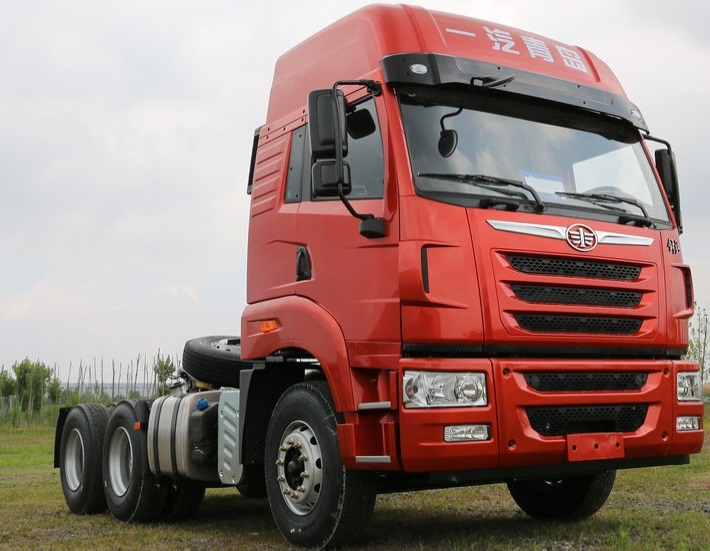heavy truck: (49, 26, 695, 527)
